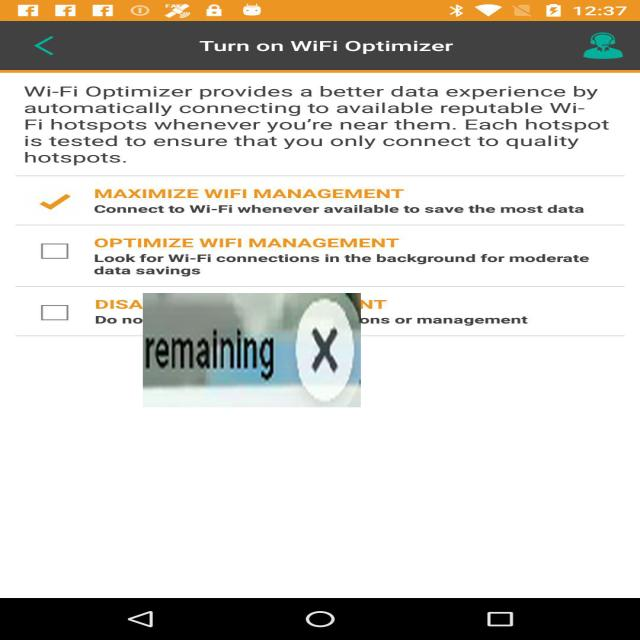misdirection: (143, 293, 361, 407)
